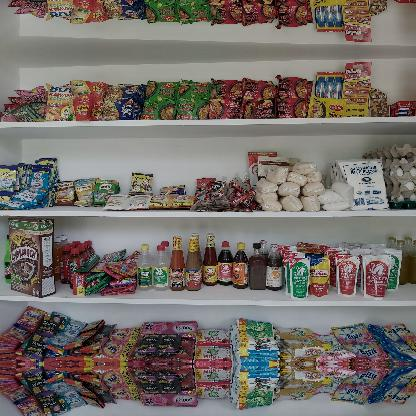Koko-Krunch: (7, 216, 59, 298)
